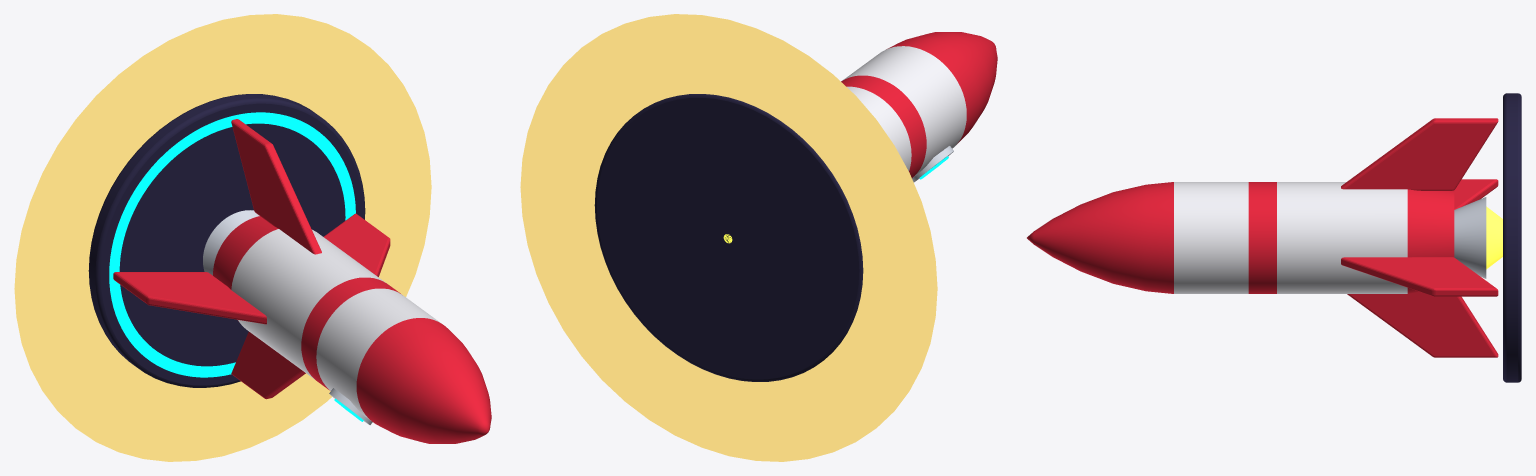
File: fusee.glb
The picture shows the model from 3 angles, left to right: view 1: azimuth 30°, elevation 25°; view 2: azimuth 150°, elevation 25°; view 3: azimuth 270°, elevation 25°; orthographic projection. The views are drawn at different scales.
Visible parts, largest first — view 1: lueur, socle, nez, fut1, rampe, fut3, aileron1, aileron2, aileron3, fut2, aileron0, fut0 (+1 smaller); view 2: lueur, socle, fut3, nez, fut2, fut1; view 3: fut1, nez, fut3, aileron1, aileron3, socle, aileron0, fut2, fut0, tuyere, aileron2, flamme.
Boxes of the visible parts, x1,y1,x2,y2 form: lueur: [14, 14, 431, 461]; socle: [88, 94, 365, 387]; nez: [356, 318, 491, 443]; fut1: [231, 229, 385, 379]; rampe: [109, 112, 355, 377]; fut3: [316, 288, 440, 420]; aileron1: [231, 119, 321, 254]; aileron2: [113, 272, 266, 324]; aileron3: [231, 332, 305, 399]; fut2: [301, 277, 400, 390]; aileron0: [324, 213, 390, 276]; fut0: [213, 216, 278, 321]; lueur: [520, 14, 937, 461]; socle: [594, 94, 863, 381]; fut3: [842, 46, 966, 177]; nez: [886, 32, 997, 144]; fut2: [841, 75, 926, 177]; fut1: [846, 86, 911, 171]; fut1: [1277, 182, 1407, 293]; nez: [1027, 182, 1173, 293]; fut3: [1174, 182, 1248, 293]; aileron1: [1341, 118, 1498, 190]; aileron3: [1347, 292, 1498, 357]; socle: [1503, 93, 1521, 382]; aileron0: [1341, 257, 1498, 296]; fut2: [1248, 182, 1276, 293]; fut0: [1407, 189, 1454, 293]; tuyere: [1454, 197, 1486, 278]; aileron2: [1454, 179, 1498, 209]; flamme: [1486, 206, 1502, 269].
Size of the model in its own units: 4.8 by 4.8 by 5.3.
